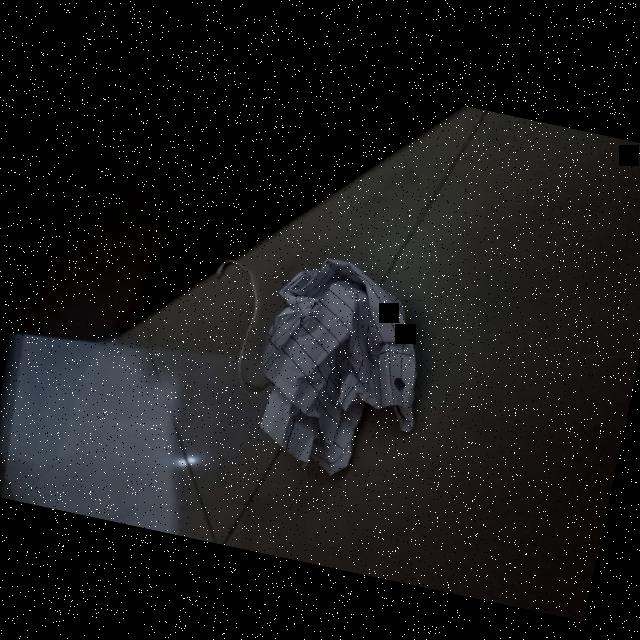scrap_paper: (219, 237, 442, 487)
